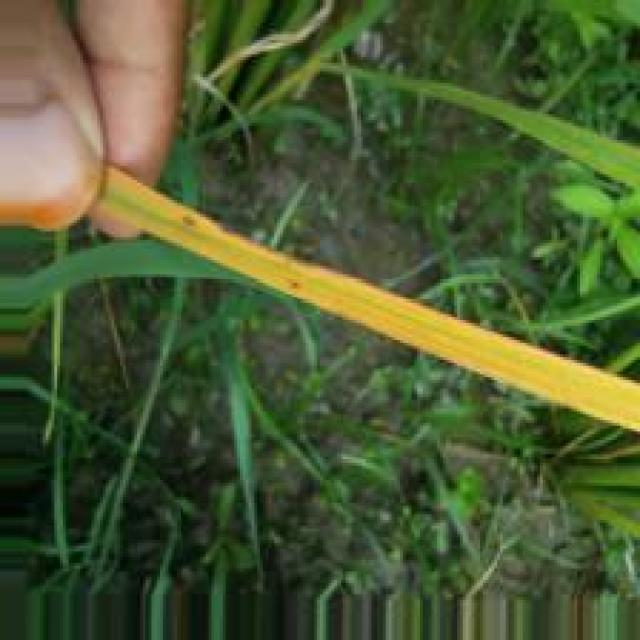Narrow_Brown_Leaf_Spot: (95, 159, 640, 437)
